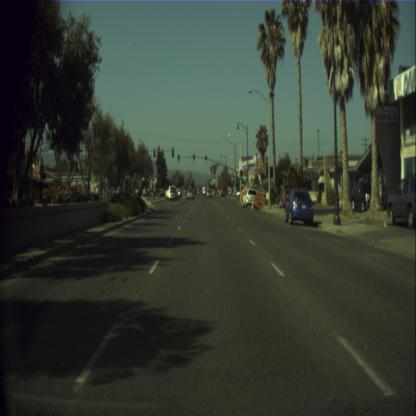Green: (240, 169, 243, 179), (204, 154, 207, 164), (192, 153, 194, 162), (178, 154, 180, 162), (235, 172, 236, 181)
